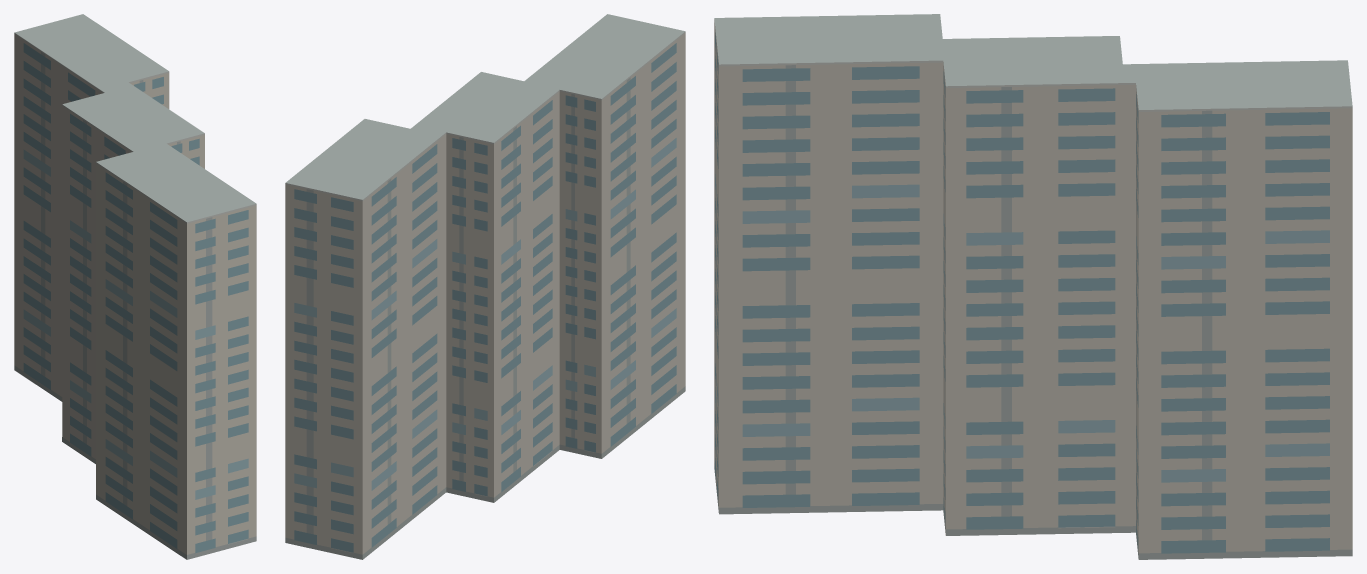
File: residential-b6373760-a04c-4c1b-98d2-89cec7770047.glb
3 renders of one model, left to right at view 1: azimuth 30°, elevation 25°; view 2: azimuth 150°, elevation 25°; view 3: azimuth 270°, elevation 25°, orthographic. The views are drawn at different scales.
Parts seen in each view (by area): view 1: residential-b6373760-a04c-4c1b-98d2-89cec7770047.tmp; view 2: residential-b6373760-a04c-4c1b-98d2-89cec7770047.tmp; view 3: residential-b6373760-a04c-4c1b-98d2-89cec7770047.tmp.
Part boxes in pixels (box(x1,y1,x2,y2)): residential-b6373760-a04c-4c1b-98d2-89cec7770047.tmp: box(14, 14, 256, 559); residential-b6373760-a04c-4c1b-98d2-89cec7770047.tmp: box(285, 14, 685, 559); residential-b6373760-a04c-4c1b-98d2-89cec7770047.tmp: box(714, 14, 1352, 559).
Size of the model in its own units: 26.12 by 57 by 73.3.
